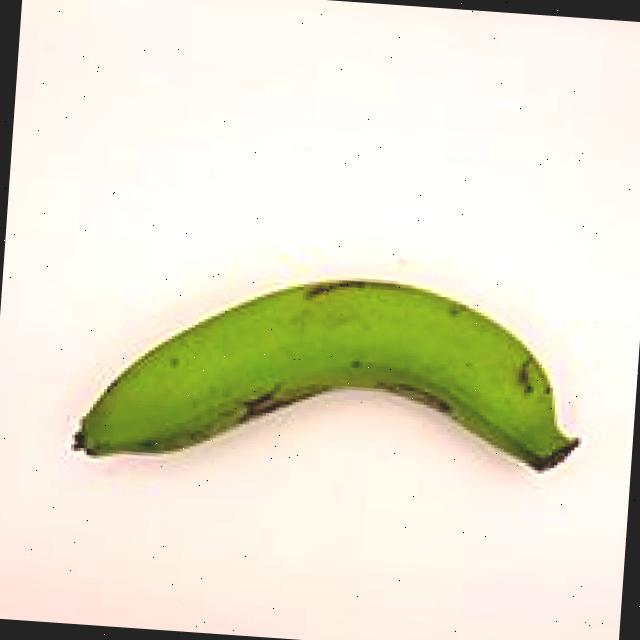Raw: (30, 236, 608, 514)
